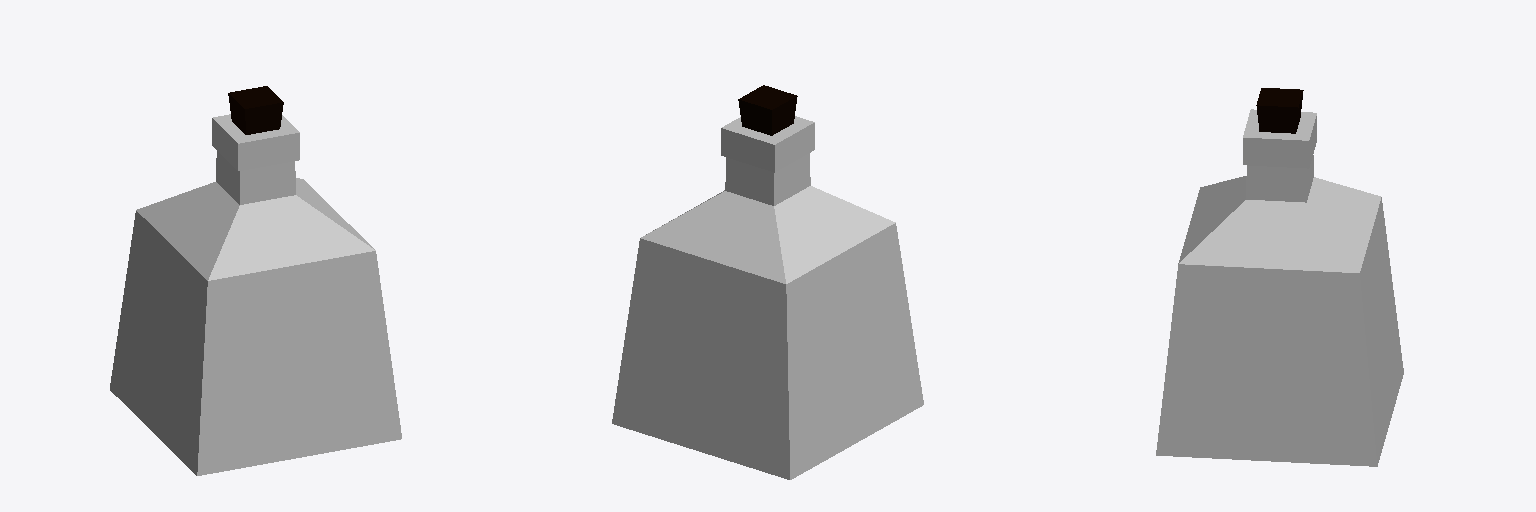
File: flask_4.obj
3 renders of one model, left to right at view 1: azimuth 30°, elevation 25°; view 2: azimuth 150°, elevation 25°; view 3: azimuth 270°, elevation 25°, orthographic.
Parts seen in each view (by area): view 1: 4_Куб.003; view 2: 4_Куб.003; view 3: 4_Куб.003.
Part boxes in pixels (x1,y1,x2,y2): 4_Куб.003: (110,86,401,475); 4_Куб.003: (612,85,923,479); 4_Куб.003: (1156,88,1403,466).
Bounding box in the file's own units: 0.5549 × 0.7817 × 0.5549.